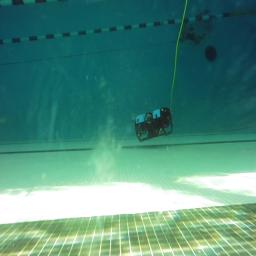front: (134, 107, 174, 143)
